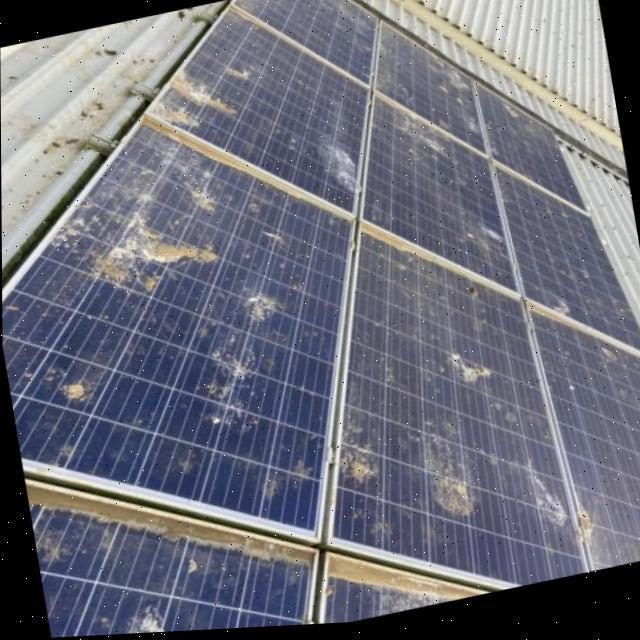Anomaly Solar Panel: (2, 115, 355, 540), (328, 235, 622, 599), (156, 7, 414, 228), (317, 98, 572, 311), (24, 478, 314, 638), (468, 138, 640, 403), (526, 308, 640, 578), (350, 25, 517, 163), (446, 86, 613, 219), (237, 0, 402, 88)
Surface Contaminant: (39, 115, 266, 344), (25, 485, 316, 570), (407, 406, 485, 533), (312, 378, 389, 496), (326, 560, 519, 603), (367, 105, 466, 186), (194, 341, 263, 442), (168, 69, 248, 136), (247, 452, 319, 510), (521, 471, 572, 541), (446, 337, 503, 398), (567, 497, 615, 562), (321, 142, 368, 204), (154, 97, 206, 144), (240, 286, 288, 331), (378, 595, 458, 620), (54, 375, 99, 416), (123, 607, 183, 635), (214, 57, 258, 94)
